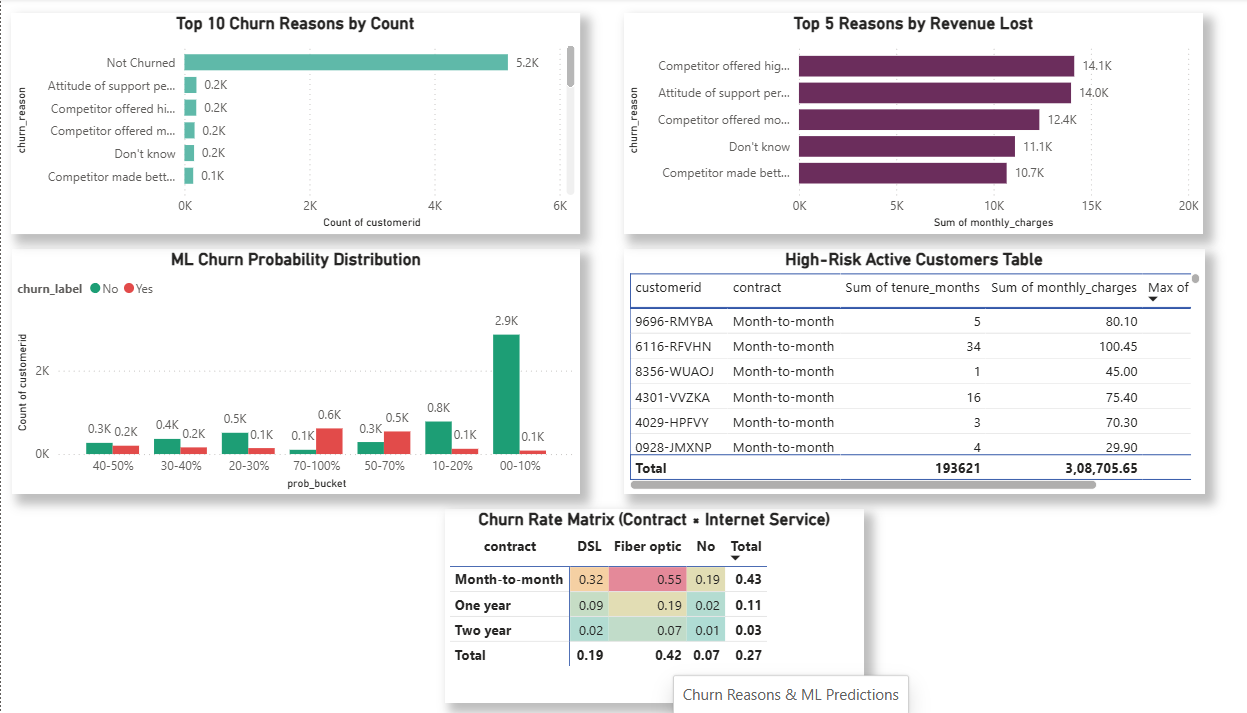

The page's visual inventory and layout, read from the dashboard file:
{"tool":"powerbi","page":{"name":"Churn Reasons & ML Predictions","canvas":[1280,720],"ordinal":2},"visuals":[{"type":"clusteredBarChart","title":"Top 10 Churn Reasons by Count","fields":{"Category":["Telco_Churn_Predictions.churn_reason"],"Y":["CountNonNull(Telco_Churn_Predictions.customerid)"]},"box":[9.7,15.2,566.1,220.1],"z":0},{"type":"clusteredBarChart","title":"Top 5 Reasons by Revenue Lost","fields":{"Category":["Telco_Churn_Predictions.churn_reason"],"Y":["Sum(Telco_Churn_Predictions.monthly_charges)"]},"box":[620.1,15.2,577.2,220.1],"z":1000},{"type":"clusteredColumnChart","title":"ML Churn Probability Distribution","fields":{"Y":["CountNonNull(Telco_Churn_Predictions.customerid)"],"Category":["Telco_Churn_Predictions.prob_bucket"],"Series":["Telco_Churn_Predictions.churn_label"]},"box":[11.2,250,564.8,243.8],"z":2000},{"type":"tableEx","title":"High-Risk Active Customers Table","fields":{"Values":["Telco_Churn_Predictions.customerid","Telco_Churn_Predictions.contract","Sum(Telco_Churn_Predictions.tenure_months)","Sum(Telco_Churn_Predictions.monthly_charges)","Max(Telco_Churn_Predictions.churn_probability)"]},"box":[619.5,250,578.4,243.8],"z":3000},{"type":"pivotTable","title":"Churn Rate Matrix (Contract × Internet Service)","fields":{"Rows":["Telco_Churn_Predictions.contract"],"Columns":["Telco_Churn_Predictions.internet_service"],"Values":["Telco_Churn_Predictions.Churn Rate %"]},"box":[441.6,508.8,416.7,192.8],"z":4000}]}

Visuals, with their boxes in screenshot pixels (x1, y1, x2, y2), scaled from the page's 1280x720 canvas onto the 1247x713 screenshot:
"Top 10 Churn Reasons by Count" clusteredBarChart: (9,15,561,233)
"Top 5 Reasons by Revenue Lost" clusteredBarChart: (604,15,1166,233)
"ML Churn Probability Distribution" clusteredColumnChart: (11,248,561,489)
"High-Risk Active Customers Table" tableEx: (604,248,1167,489)
"Churn Rate Matrix (Contract × Internet Service)" pivotTable: (430,504,836,695)
